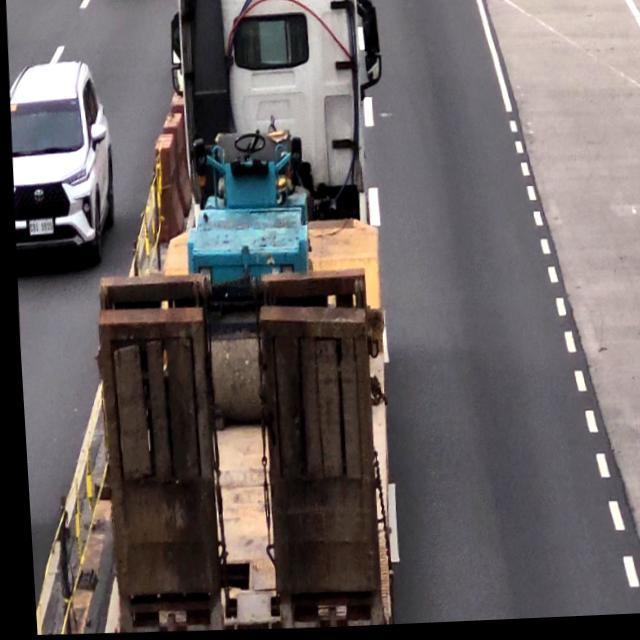Truck: (80, 0, 395, 634)
